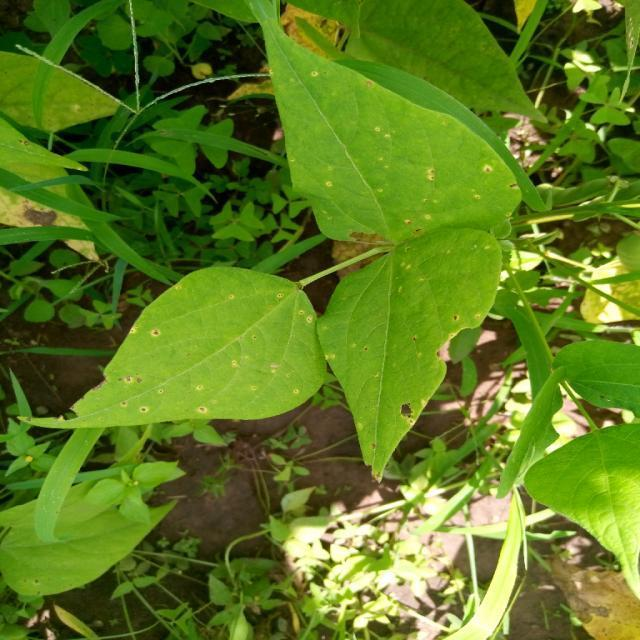embun tepung: (191, 103, 475, 253)
